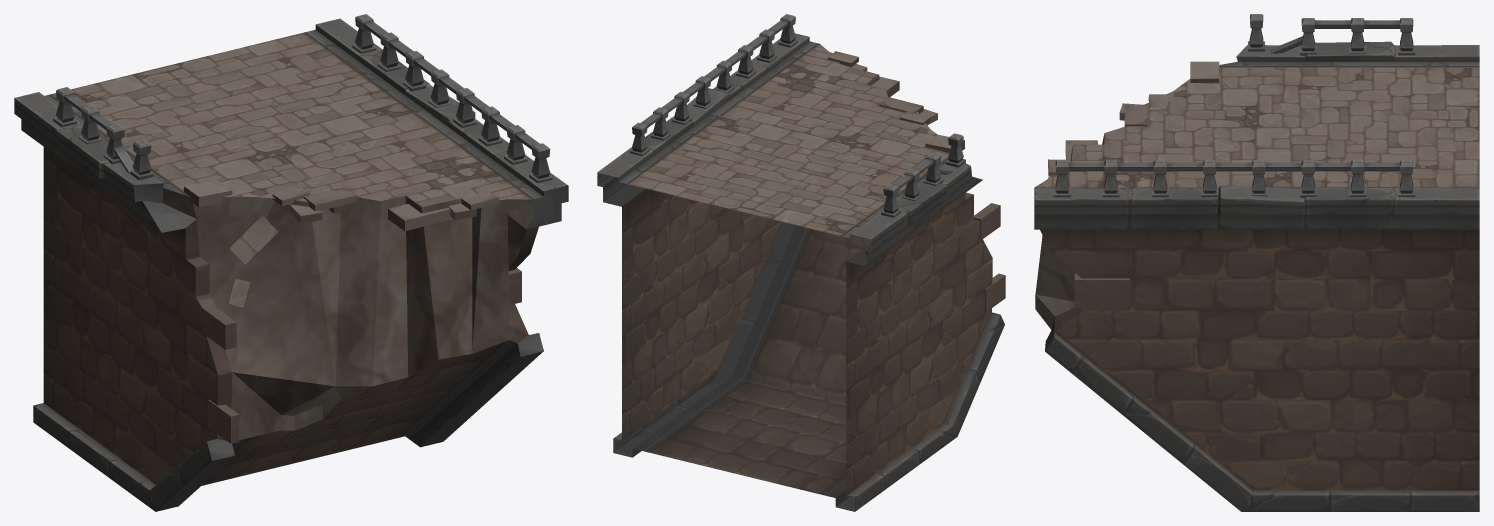
File: sc_dungeon_moshenta_building_003_d.FBX
3 renders of one model, left to right at view 1: azimuth 30°, elevation 25°; view 2: azimuth 150°, elevation 25°; view 3: azimuth 270°, elevation 25°, orthographic. The views are drawn at different scales.
Visible parts, largest first — view 1: sc_dungeon_moshenta_building_003_d; view 2: sc_dungeon_moshenta_building_003_d; view 3: sc_dungeon_moshenta_building_003_d.
Boxes of the visible parts, bbox=[...] form: sc_dungeon_moshenta_building_003_d: bbox=[14, 14, 568, 511]; sc_dungeon_moshenta_building_003_d: bbox=[597, 14, 1005, 511]; sc_dungeon_moshenta_building_003_d: bbox=[1034, 14, 1479, 511].
Bounding box in the file's own units: 13.3 × 15.88 × 14.
1 material, 1 textured.
